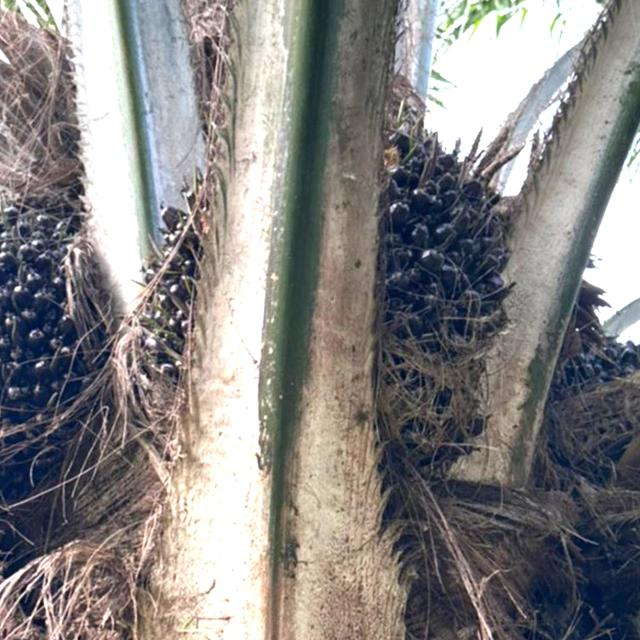almost: (133, 96, 517, 454), (0, 192, 108, 473)
